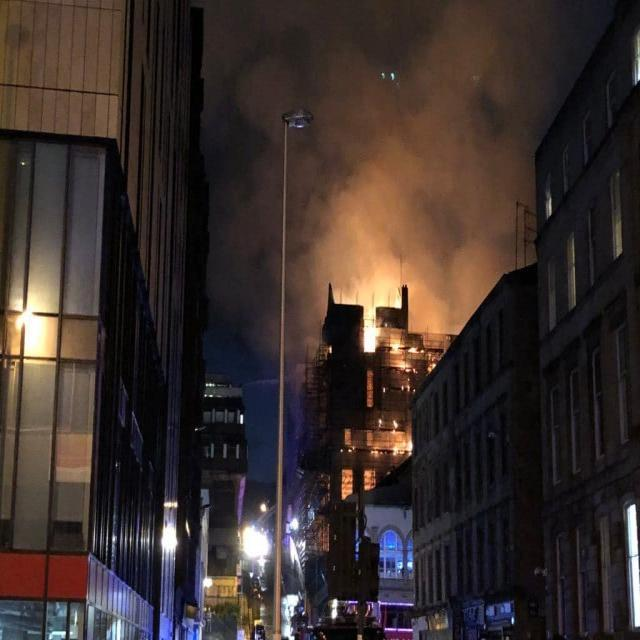Fire: (352, 277, 408, 362)
